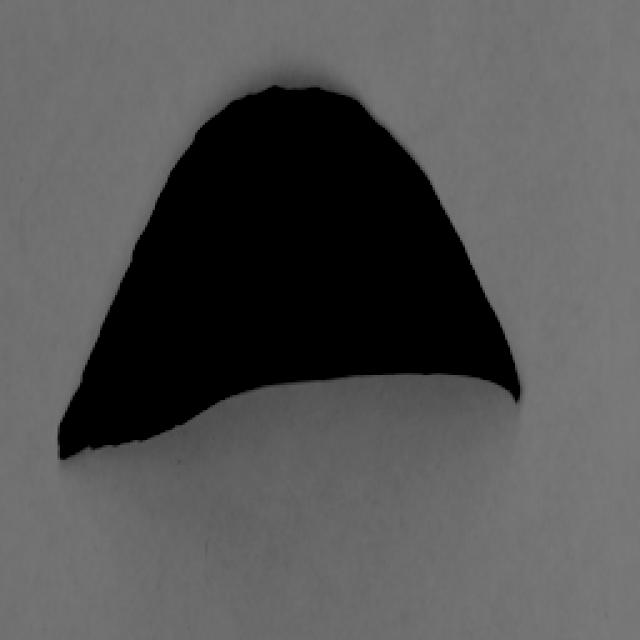greening: (36, 66, 556, 484)
